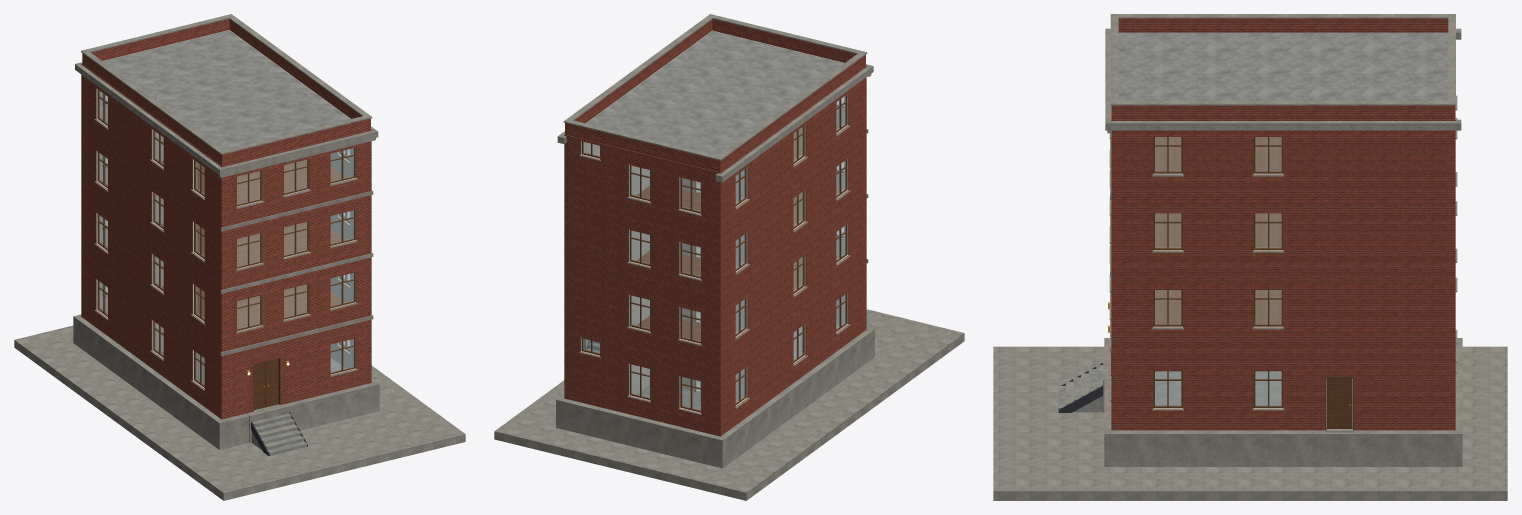
The model's file is b_nyc_brownstone.gltf.
3 views of the same model, side by side, from view 1: azimuth 30°, elevation 25°; view 2: azimuth 150°, elevation 25°; view 3: azimuth 270°, elevation 25° (orthographic). The views are drawn at different scales.
Parts seen in each view (by area): view 1: S_nyc_brownstone, D_nyc_brownstone_F1_S1_Door1, D_nyc_brownstone_F1_S1_Door0; view 2: S_nyc_brownstone; view 3: S_nyc_brownstone, D_nyc_brownstone_F1_E2_Door0.
Part boxes in pixels (<box>): S_nyc_brownstone: <box>14,14,465,500</box>; D_nyc_brownstone_F1_S1_Door1: <box>265,359,278,407</box>; D_nyc_brownstone_F1_S1_Door0: <box>254,362,265,410</box>; S_nyc_brownstone: <box>494,14,964,500</box>; S_nyc_brownstone: <box>993,14,1507,500</box>; D_nyc_brownstone_F1_E2_Door0: <box>1327,378,1352,428</box>.
Bounding box in the file's own units: 13 × 15.46 × 19.5.
Materials: 15 (10 with a texture image).
